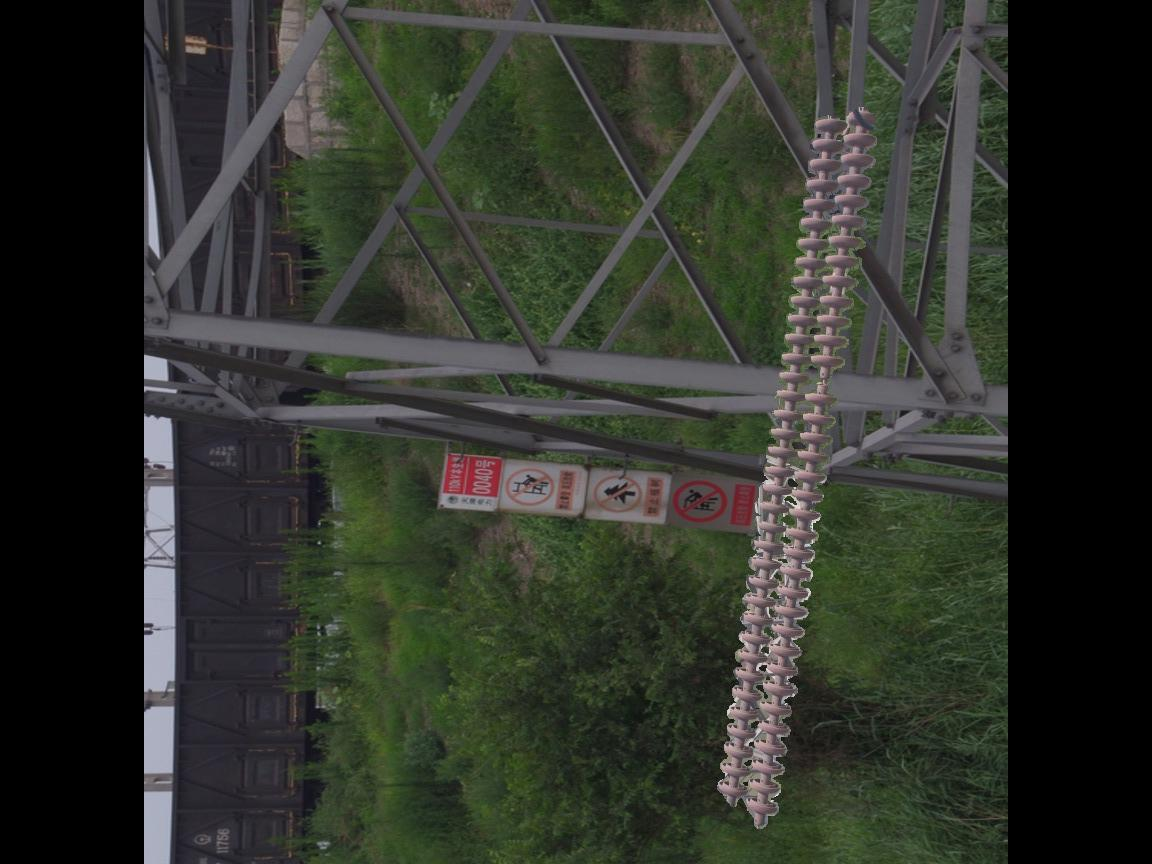insulator: (713, 100, 881, 833)
insulator_stringdrop: (802, 350, 848, 409)
